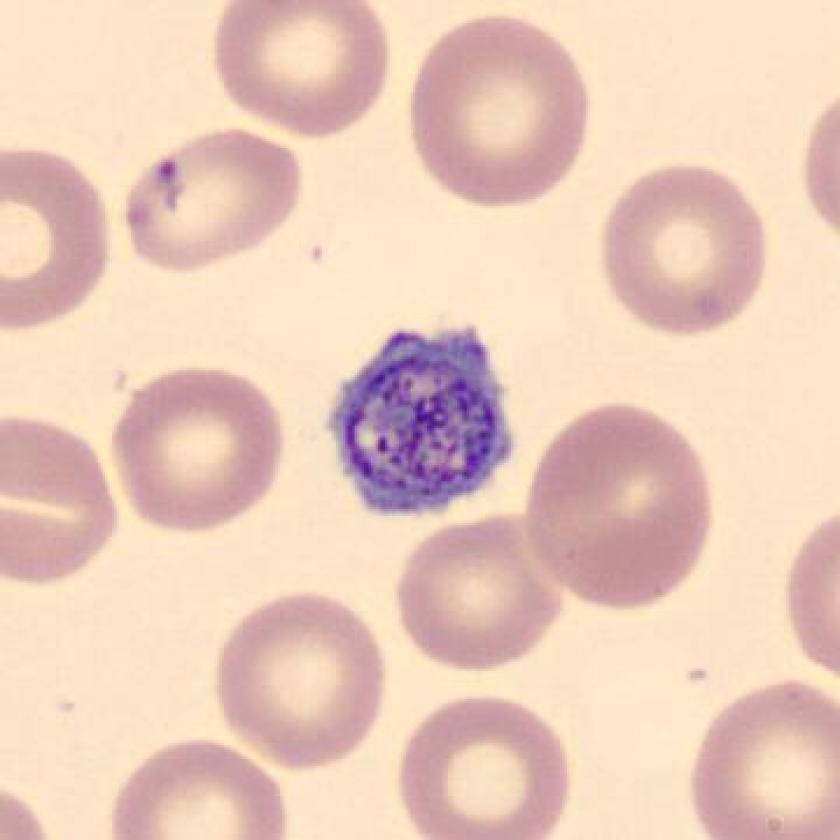platelets: (314, 313, 524, 531)
